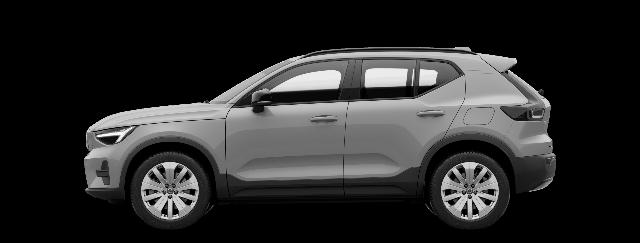suv: (66, 40, 566, 234)
